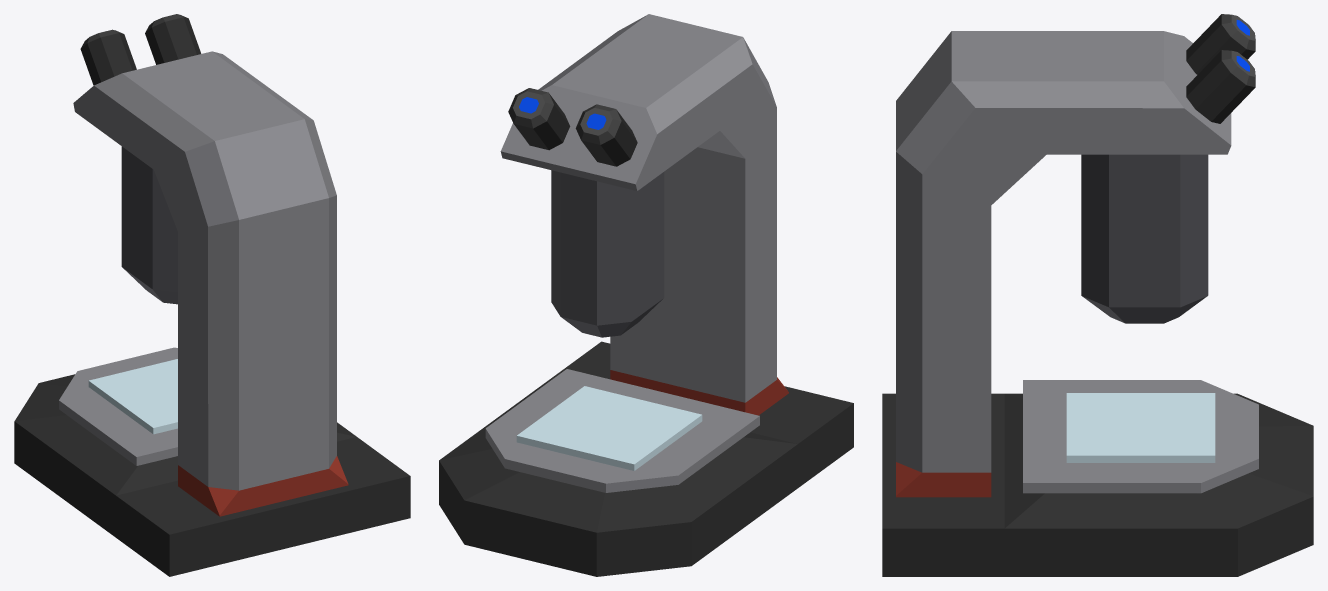
Rendered from Microscope.fbx.
3 views of the same model, side by side, from view 1: azimuth 30°, elevation 25°; view 2: azimuth 150°, elevation 25°; view 3: azimuth 270°, elevation 25° (orthographic). The views are drawn at different scales.
Visible parts, largest first — view 1: Microscope; view 2: Microscope; view 3: Microscope.
Boxes of the visible parts, bbox=[...] form: Microscope: bbox=[14, 14, 410, 576]; Microscope: bbox=[439, 14, 853, 576]; Microscope: bbox=[882, 14, 1313, 576].
Size of the model in its own units: 18.34 by 30 by 24.8.
